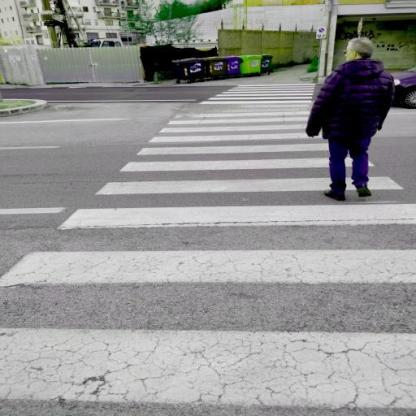crosswalk: (1, 246, 415, 416), (92, 156, 408, 197), (156, 116, 323, 136)
